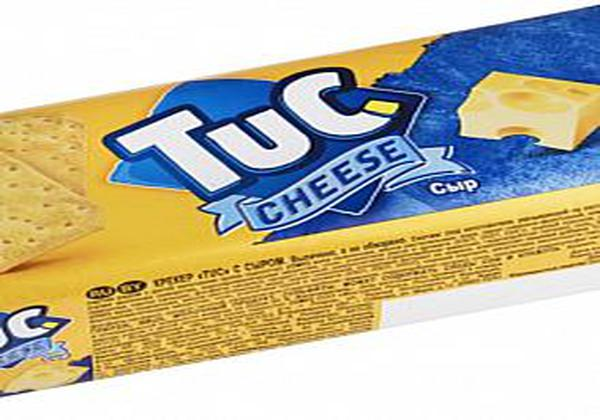crackers tuc: (4, 16, 600, 388)
